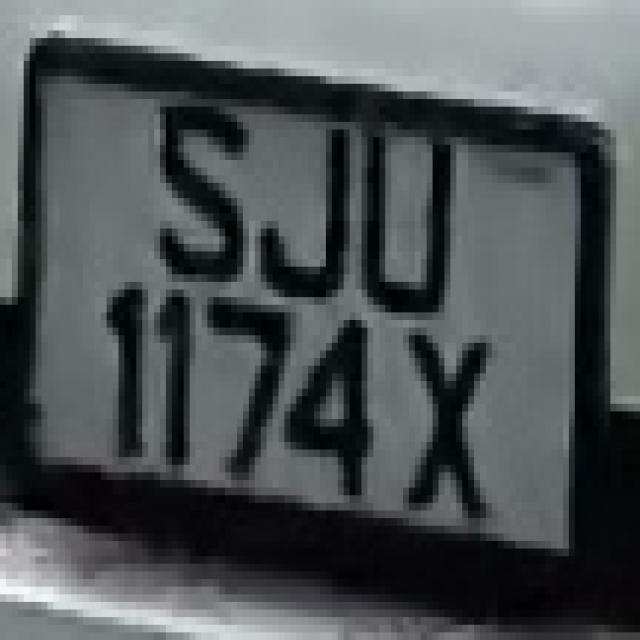1: (148, 267, 202, 495), (89, 274, 142, 480)
4: (272, 312, 368, 503)
7: (190, 289, 284, 503)
J: (261, 76, 373, 335)
S: (130, 61, 261, 320)
U: (362, 84, 468, 335)
X: (391, 305, 504, 533)
